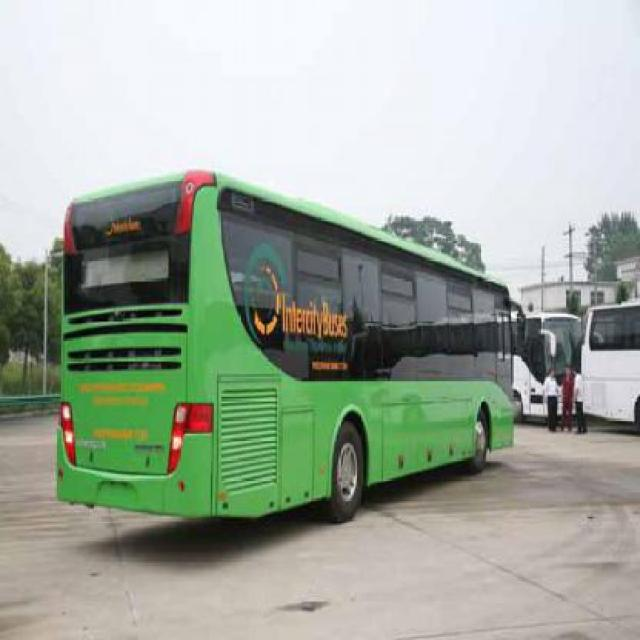bus: (55, 170, 514, 527)
